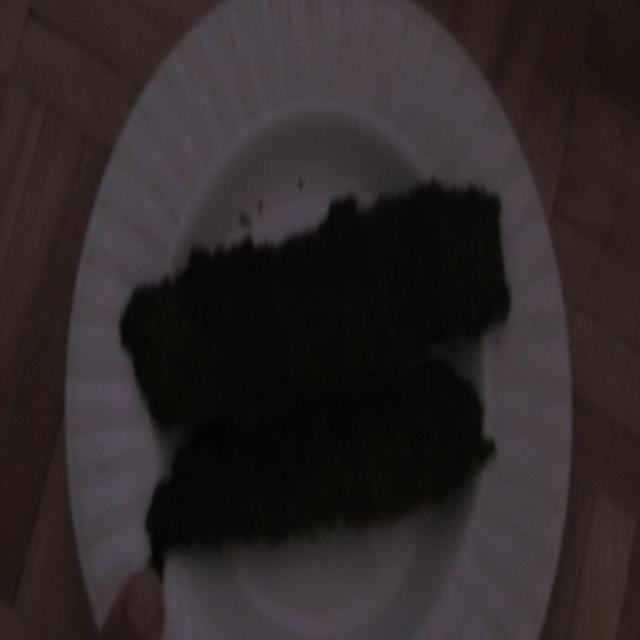cutlet: (109, 160, 520, 571)
